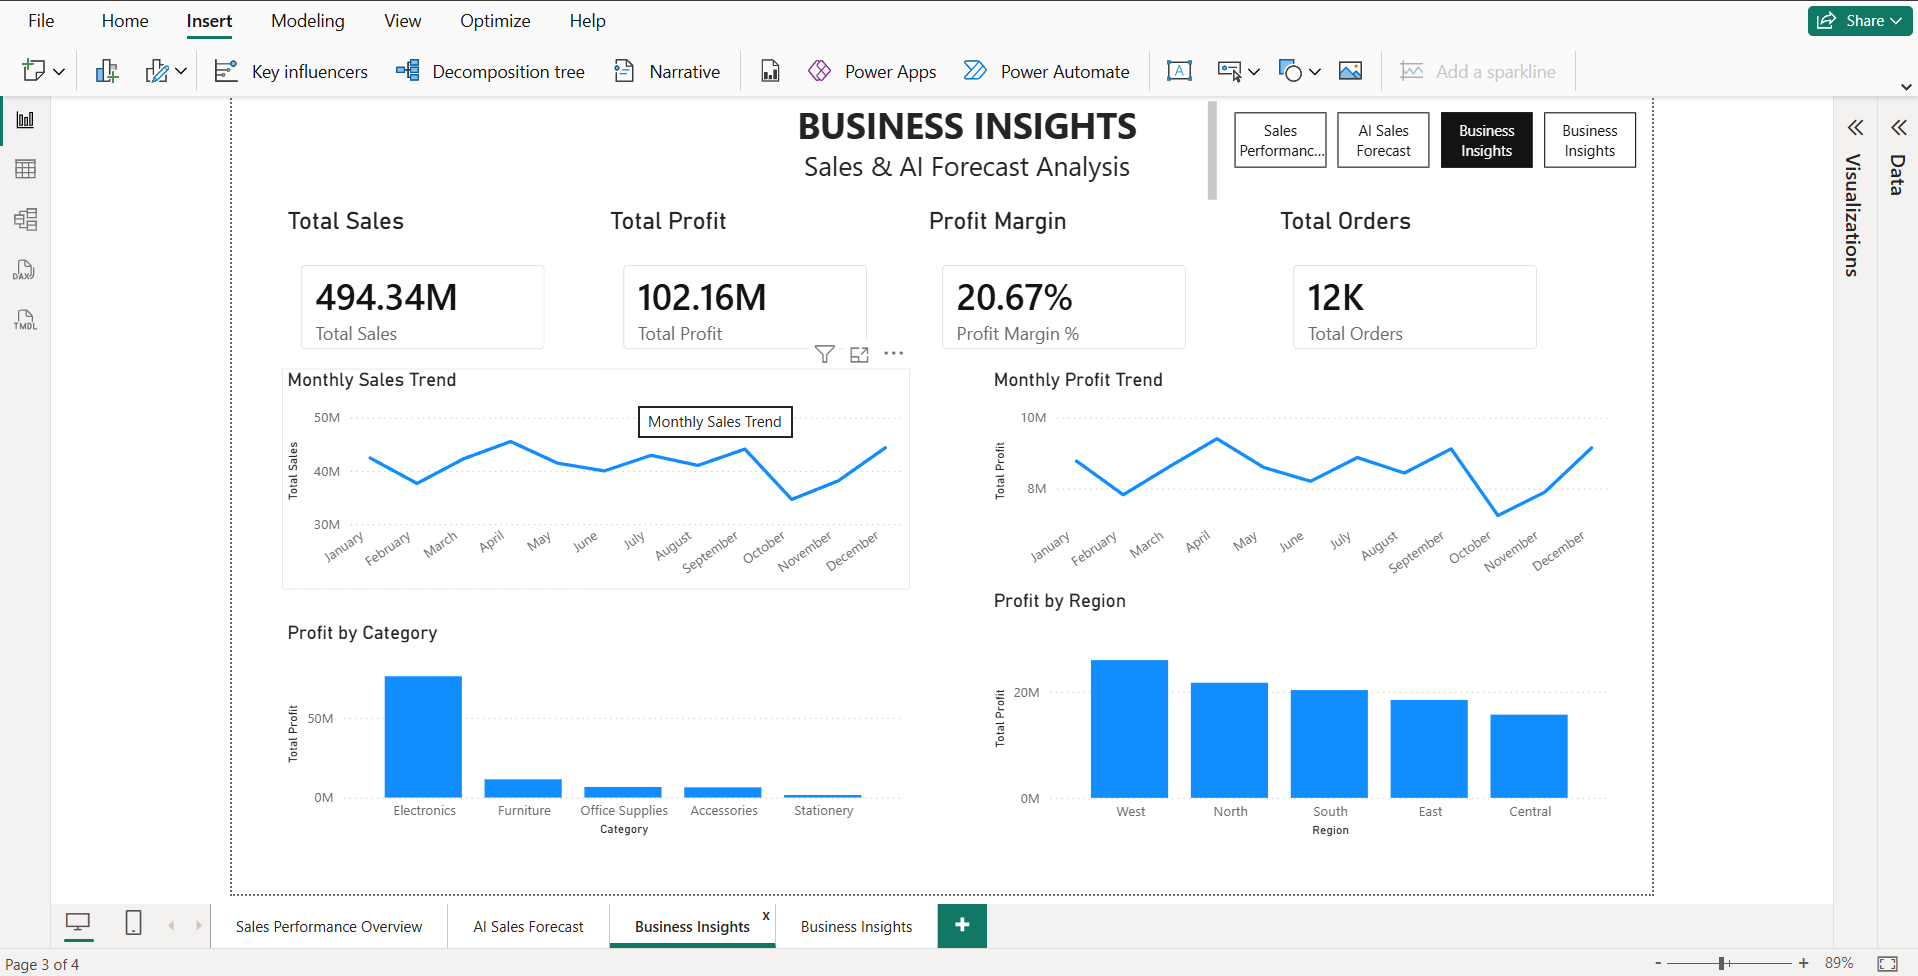

The page's visual inventory and layout, read from the dashboard file:
{"tool":"powerbi","page":{"name":"Business Insights","canvas":[1280,720],"ordinal":2},"visuals":[{"type":"textbox","box":[440.2,0,452.4,100.3],"z":0},{"type":"cardVisual","title":"Total Sales","fields":{"Data":["sales.Total Sales"]},"box":[45.2,100.3,254.3,145.5],"z":1000},{"type":"cardVisual","title":"Total Profit","fields":{"Data":["sales.Total Profit"]},"box":[336.3,100.3,254.3,145.5],"z":2000},{"type":"cardVisual","title":"Profit Margin","fields":{"Data":["sales.Profit Margin %"]},"box":[623.6,100.3,254.3,145.5],"z":3000},{"type":"cardVisual","title":"Total Orders","fields":{"Data":["sales.Total Orders"]},"box":[940.4,100.3,254.3,145.5],"z":4000},{"type":"lineChart","title":"Monthly Sales Trend","fields":{"Category":["sales.Order_Date.Variation.Date Hierarchy.Month"],"Y":["sales.Total Sales"]},"box":[45.2,245.8,566.2,199.3],"z":5000},{"type":"lineChart","title":"Monthly Profit Trend","fields":{"Category":["sales.Order_Date.Variation.Date Hierarchy.Month"],"Y":["sales.Total Profit"]},"box":[682.3,245.8,566.2,199.3],"z":6000},{"type":"clusteredColumnChart","title":"Profit by Category","fields":{"Category":["sales.Category"],"Y":["sales.Total Profit"]},"box":[45,473,566,199],"z":7000},{"type":"clusteredColumnChart","title":"Profit by Region","fields":{"Category":["sales.Region"],"Y":["sales.Total Profit"]},"box":[682.3,445.1,566.2,227.4],"z":8000},{"type":"pageNavigator","box":[903.7,14.7,364.4,50.1],"z":9000}]}

Visuals, with their boxes on the page's 1280x720 design canvas (x1, y1, x2, y2). These are canvas units, not pixel positions in the 1918x976 screenshot, which may show the page scaled, cropped or inside an application window:
textbox: [left=440, top=0, right=893, bottom=100]
"Total Sales" cardVisual: [left=45, top=100, right=300, bottom=246]
"Total Profit" cardVisual: [left=336, top=100, right=591, bottom=246]
"Profit Margin" cardVisual: [left=624, top=100, right=878, bottom=246]
"Total Orders" cardVisual: [left=940, top=100, right=1195, bottom=246]
"Monthly Sales Trend" lineChart: [left=45, top=246, right=611, bottom=445]
"Monthly Profit Trend" lineChart: [left=682, top=246, right=1248, bottom=445]
"Profit by Category" clusteredColumnChart: [left=45, top=473, right=611, bottom=672]
"Profit by Region" clusteredColumnChart: [left=682, top=445, right=1248, bottom=672]
pageNavigator: [left=904, top=15, right=1268, bottom=65]
